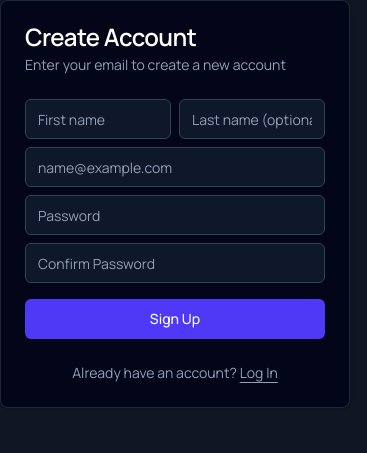
Test: RegisterForm › shows duplicate email
The width and height of the screenshot is (367, 453).
Type "Ana" into the field with placeholder "First name" at (98, 119), box [25,99,171,139]
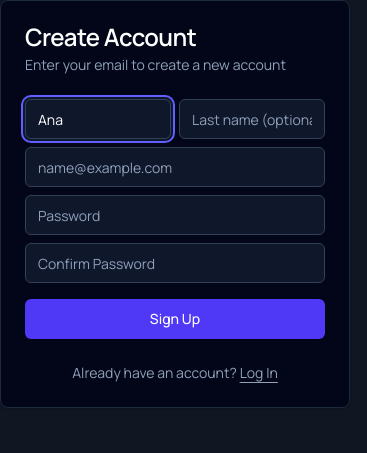
Type "ana@example.com" into the field with placeholder "name@example.com" at (175, 167), box [25,147,325,187]
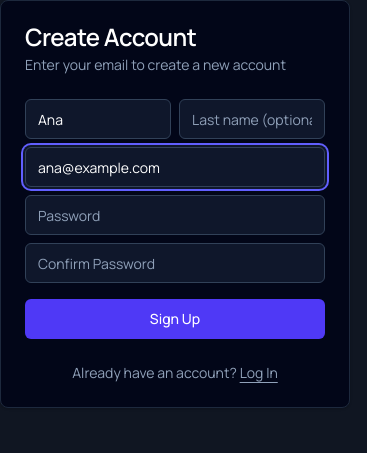
Type "long-password-123" into the password field with placeholder "Password" at (175, 215), box [25,195,325,235]
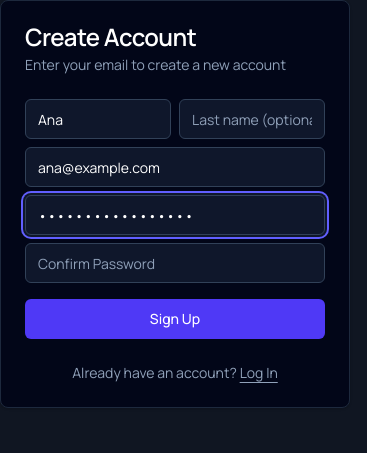
Type "long-password-123" into the password field with placeholder "Confirm Password" at (175, 263), box [25,243,325,283]
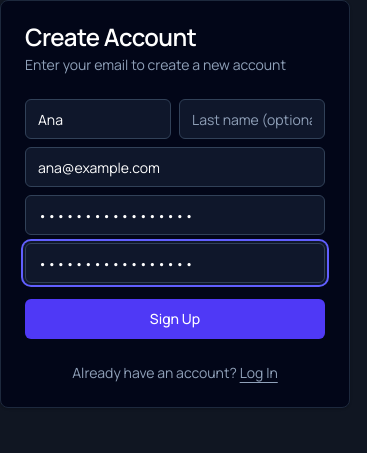
Click the button "Sign Up" at (175, 319), box [25,299,325,339]
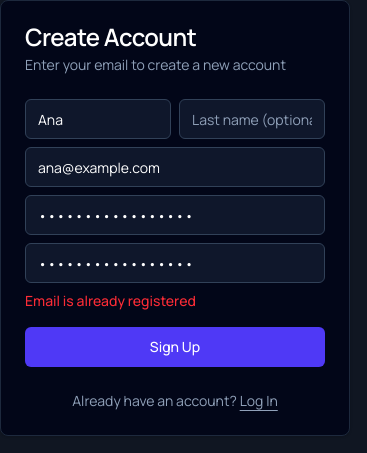
Expected: the text "Email is already registered" is shown, [25,291,196,310]
